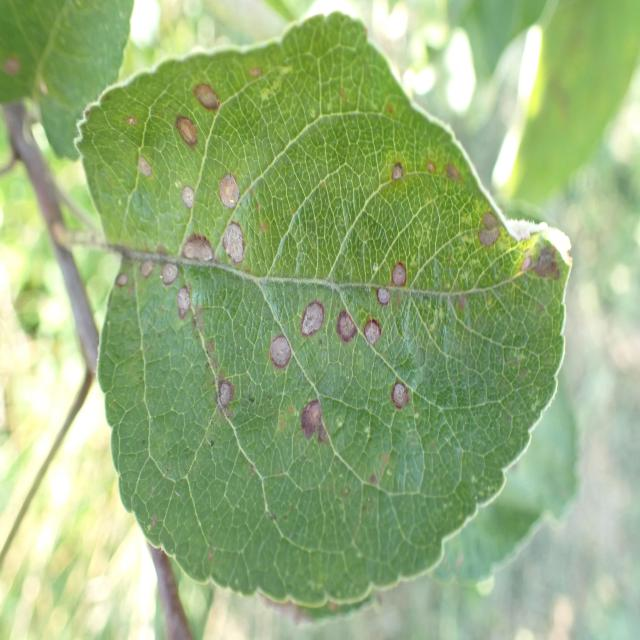frog-eye-leaf-spot: (70, 14, 574, 608), (0, 0, 135, 162)
